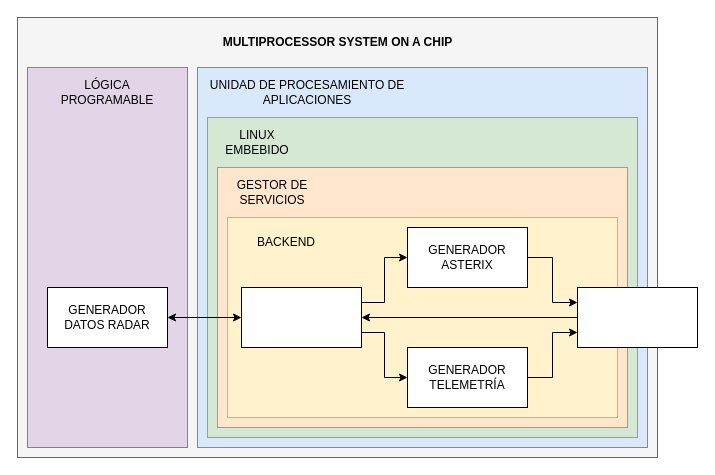
Some shapes in this 715 by 475 pixel diagram are drawn without their labels. The shapes that lost their labels are listed below. From the top down, each one's centre as x and y in pixels, then its label:
point 301,317: MODELO PROCESADOR PYTHON
point 637,317: PUERTO ETHERNET
